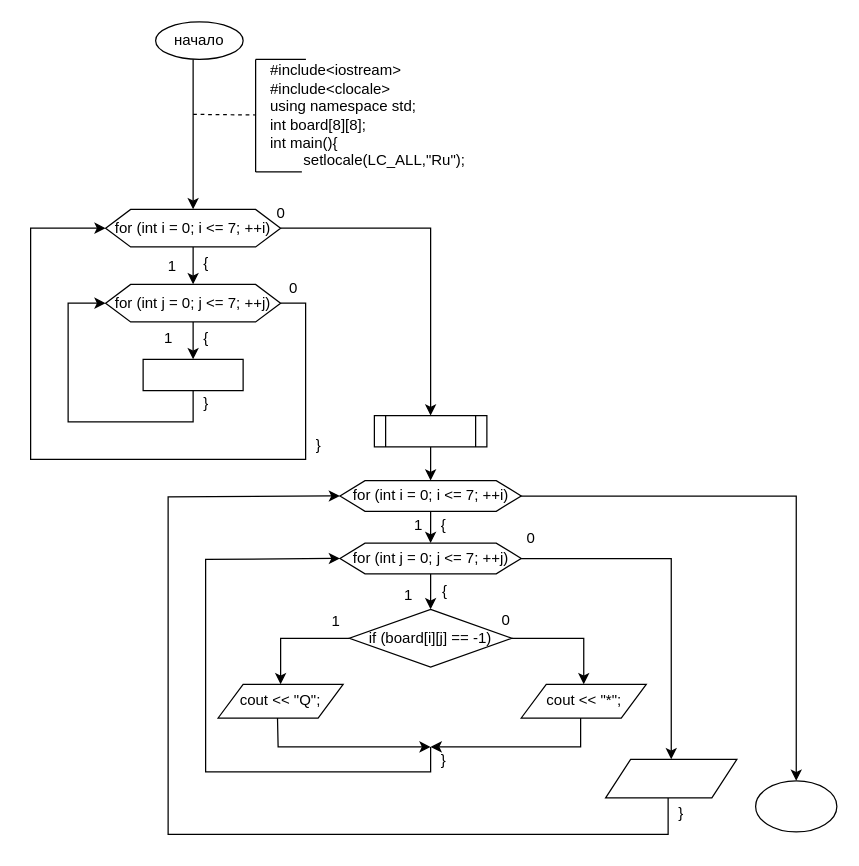
This 859x866 diagram has some shape labels left out. The box of each missing label's shape, as (x1, y1, x2, y2) in pixels:
board[i][j] = 0;: (142, 358, 243, 391)
cout << endl;: (604, 758, 737, 798)
return 0;}: (754, 780, 837, 832)
tryqueen(0);: (373, 414, 487, 447)
